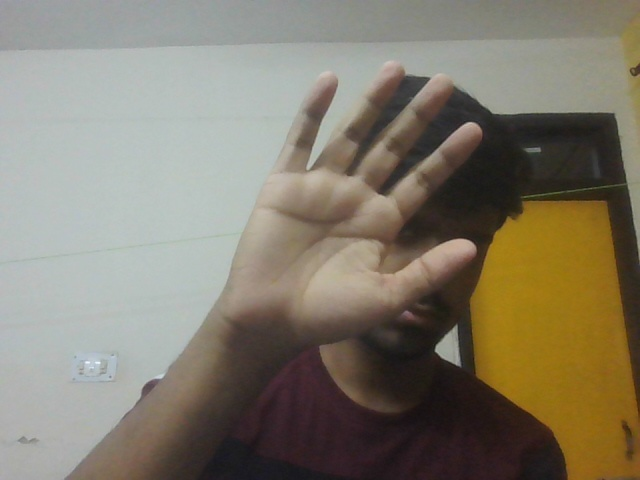hello: (207, 57, 499, 353)
